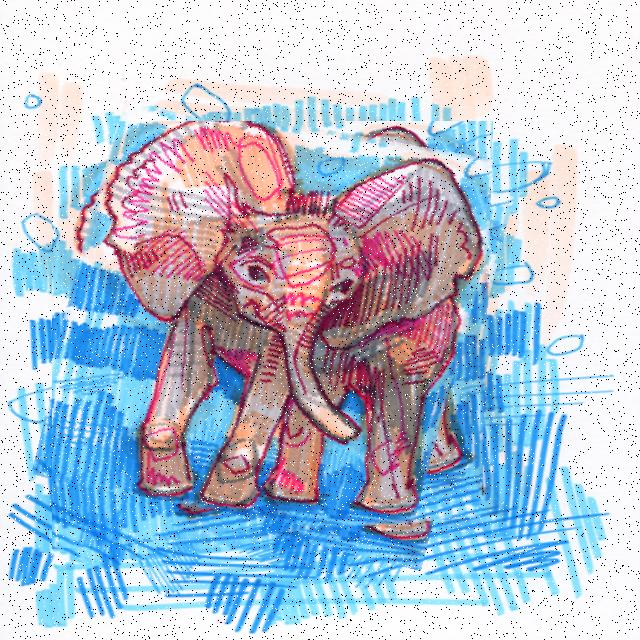elephant: (52, 121, 494, 550)
